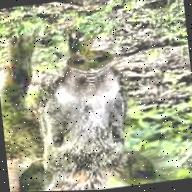boar: (0, 17, 173, 192)
